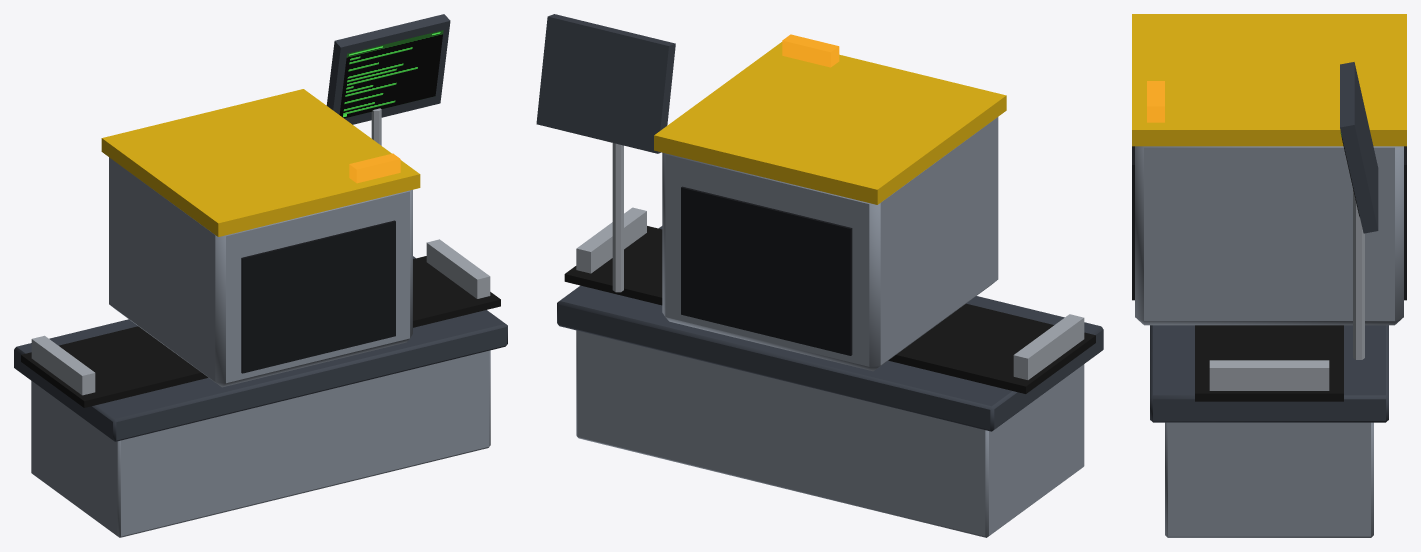
Rendered from cell_contraband_xray_table.glb.
3 views of the same model, side by side, from view 1: azimuth 30°, elevation 25°; view 2: azimuth 150°, elevation 25°; view 3: azimuth 270°, elevation 25° (orthographic). The views are drawn at different scales.
Parts seen in each view (by area): view 1: cell_contraband_xray_table; view 2: cell_contraband_xray_table; view 3: cell_contraband_xray_table.
Part boxes in pixels (x1=…): cell_contraband_xray_table: x1=14, y1=14, x2=507, y2=537; cell_contraband_xray_table: x1=536, y1=14, x2=1103, y2=537; cell_contraband_xray_table: x1=1132, y1=14, x2=1406, y2=537.
Bounding box in the file's own units: 1.95 × 1.6 × 0.92.
Materials: 8 (1 with a texture image).
